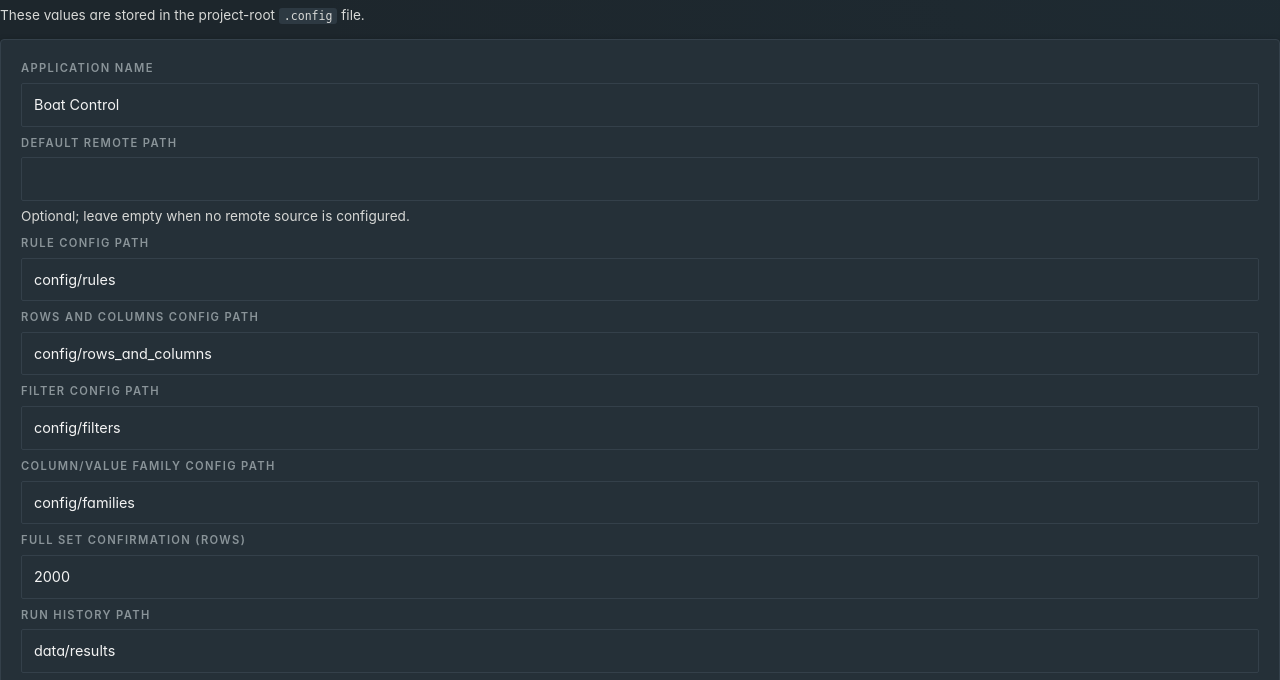
it: SettingsPage › saves all eight settings using the root config wire fields
Replace the text in the field labelled "Application name" with "My Comparator" at (640, 105), box left=21, top=83, right=1259, bottom=127
(page scrolled)
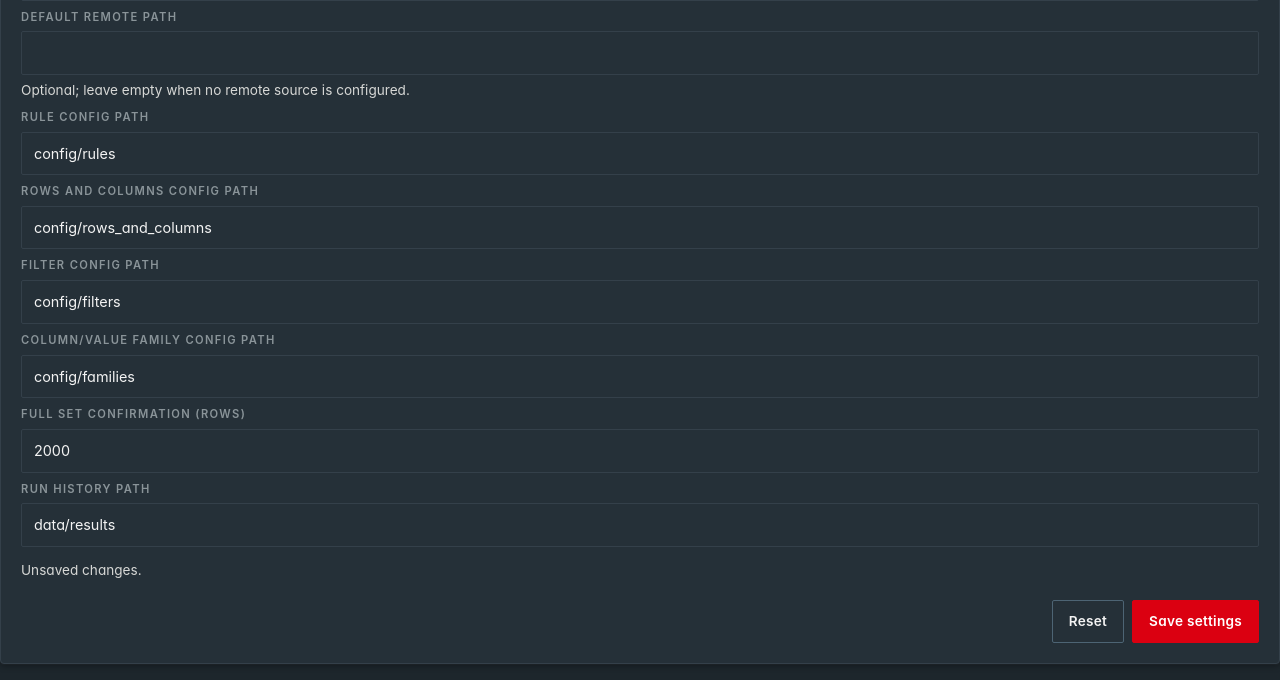
Click the button "Save settings" at (1196, 622), box left=1132, top=600, right=1259, bottom=643
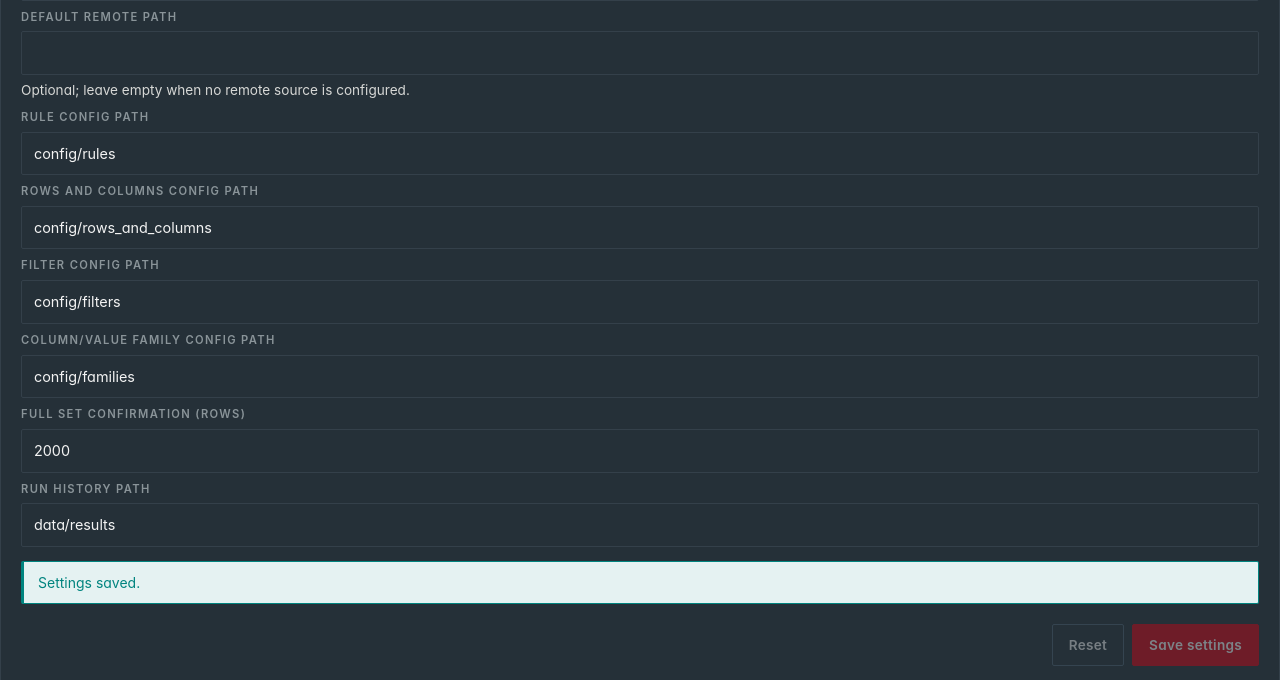
Expected: the text "Settings saved." is shown, left=21, top=561, right=1259, bottom=604
